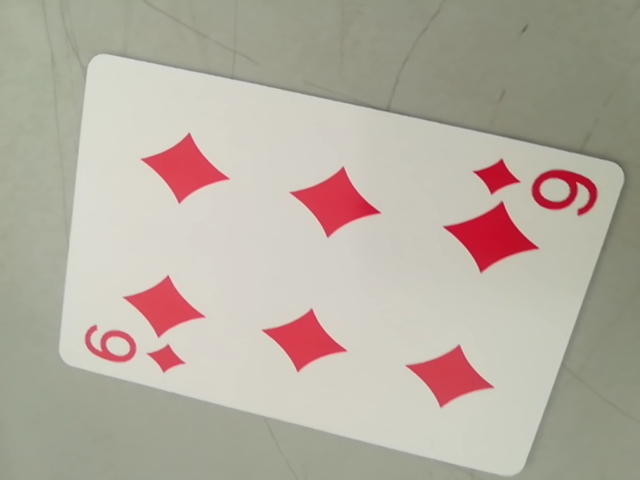fk 6: (467, 157, 601, 212), (73, 324, 192, 378)
